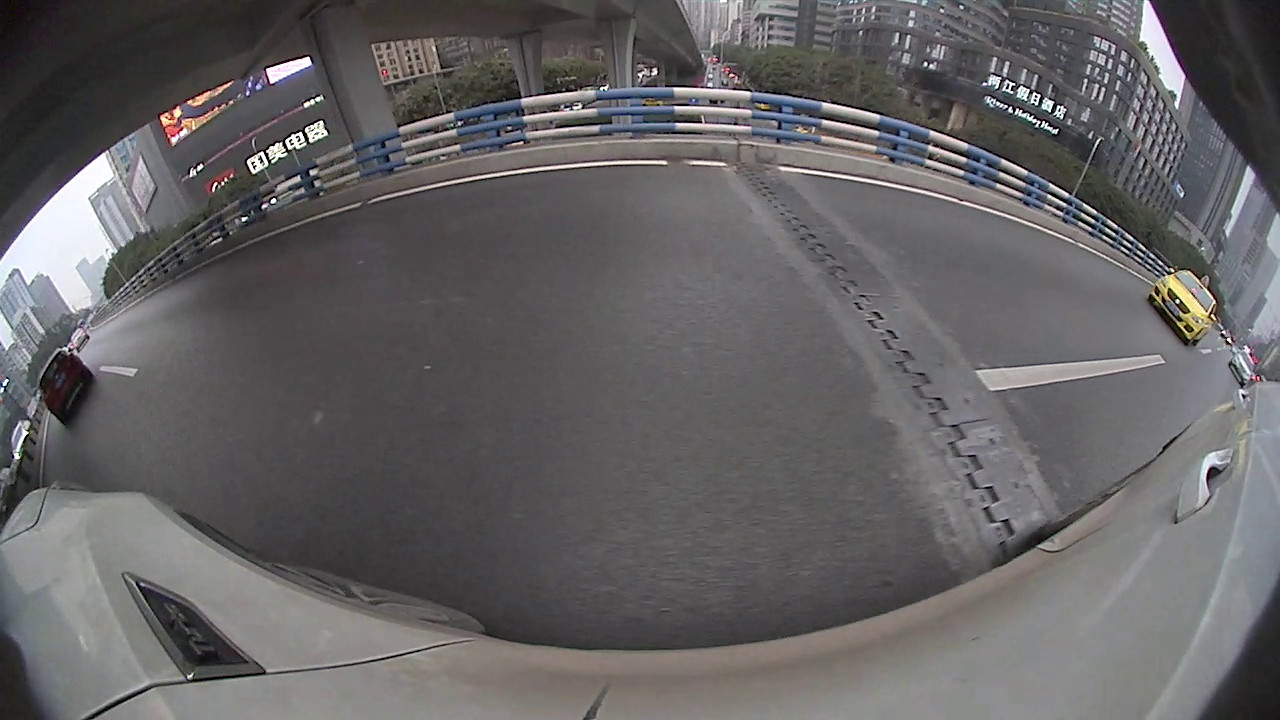car: (1147, 269, 1219, 347), (39, 350, 95, 428)
